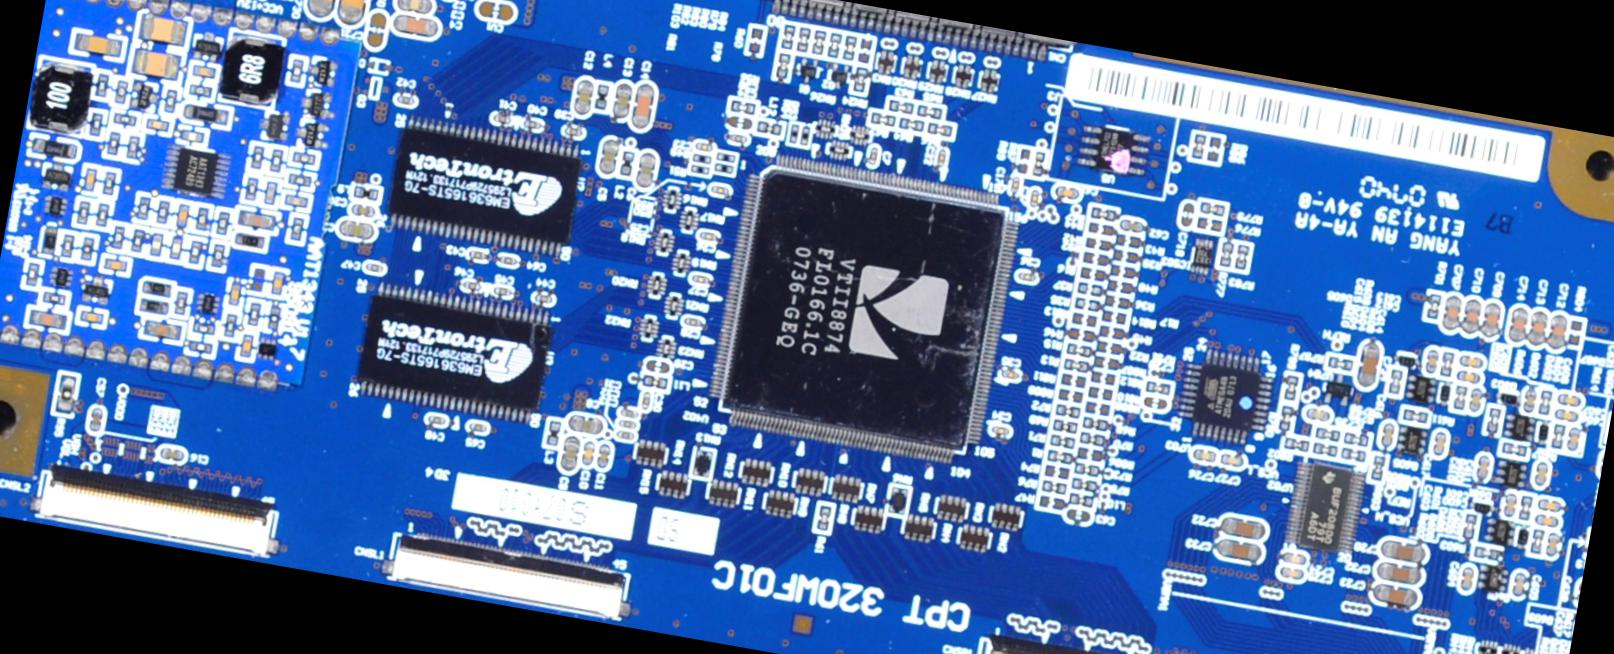Capacitor Jumper: (67, 27, 131, 64), (136, 11, 192, 48), (1368, 577, 1423, 613), (1212, 535, 1265, 569), (133, 48, 184, 82), (1354, 339, 1387, 391), (1375, 532, 1428, 565), (1372, 555, 1425, 585), (1216, 513, 1268, 542), (392, 9, 442, 38), (24, 308, 75, 335), (631, 145, 661, 191), (138, 317, 188, 344), (632, 81, 659, 131), (1527, 306, 1554, 348), (335, 216, 377, 244), (1481, 292, 1507, 337), (1461, 292, 1485, 338), (556, 434, 584, 474), (1440, 292, 1466, 334), (567, 410, 606, 437), (153, 443, 192, 470), (97, 252, 134, 280), (336, 0, 373, 27), (570, 78, 596, 116), (1549, 310, 1573, 351), (611, 80, 634, 123), (1187, 440, 1220, 469), (1471, 449, 1498, 484), (598, 136, 621, 177), (239, 207, 275, 233), (1508, 305, 1532, 344), (72, 304, 109, 329), (593, 439, 618, 475), (1374, 419, 1400, 453), (1302, 402, 1337, 426), (1553, 386, 1589, 410), (1535, 492, 1569, 516), (305, 0, 342, 22), (1430, 426, 1452, 461), (460, 416, 493, 440), (85, 403, 108, 437), (1553, 403, 1584, 427), (1457, 561, 1478, 596), (1497, 490, 1521, 520), (236, 329, 257, 363), (1052, 183, 1084, 206), (346, 200, 379, 221), (1219, 447, 1245, 473), (1563, 425, 1584, 456), (1195, 215, 1227, 236), (1458, 350, 1486, 373), (1204, 134, 1226, 164), (190, 61, 220, 82), (1012, 145, 1032, 176), (1533, 508, 1564, 528), (489, 108, 518, 130), (398, 0, 438, 15), (1521, 382, 1542, 412), (142, 116, 173, 136), (1534, 459, 1553, 490), (1509, 570, 1531, 597), (1178, 199, 1197, 229), (1119, 216, 1149, 236), (269, 268, 288, 298), (224, 279, 244, 308), (1543, 529, 1563, 558), (422, 412, 452, 431), (559, 121, 587, 140), (531, 287, 556, 309), (642, 356, 671, 375), (636, 386, 655, 415), (519, 114, 547, 133), (1424, 348, 1442, 376), (81, 165, 100, 193), (609, 425, 637, 444), (934, 144, 952, 171), (582, 438, 597, 469), (175, 201, 191, 230), (706, 181, 734, 198), (1470, 384, 1486, 412), (689, 271, 714, 287), (615, 416, 642, 431), (460, 278, 486, 294), (1459, 366, 1482, 382), (679, 314, 704, 330), (699, 229, 722, 245), (1570, 575, 1581, 608), (692, 139, 715, 154), (496, 253, 520, 269), (617, 406, 640, 421), (466, 248, 489, 264), (490, 283, 513, 299), (1007, 174, 1022, 196), (1027, 185, 1042, 208)
Connector: (33, 458, 295, 565), (377, 531, 639, 624), (959, 623, 1231, 653)
Resistor Jumper: (51, 371, 82, 418), (1468, 539, 1506, 567), (1381, 362, 1408, 402), (283, 53, 310, 89), (1366, 451, 1392, 488), (1395, 404, 1435, 427), (288, 145, 323, 172), (284, 212, 310, 248), (284, 185, 314, 216), (182, 236, 209, 270), (217, 309, 243, 344), (132, 190, 155, 227), (38, 286, 74, 310), (1481, 403, 1506, 437), (1458, 509, 1482, 543), (726, 95, 761, 118), (72, 194, 96, 229), (1188, 129, 1212, 163), (1324, 351, 1358, 375), (188, 316, 222, 340), (1233, 240, 1256, 275), (105, 219, 130, 251), (772, 51, 796, 84), (1108, 274, 1141, 298), (244, 141, 268, 174), (1497, 438, 1530, 461), (1045, 431, 1078, 454), (264, 302, 286, 336), (1080, 232, 1115, 253), (1041, 445, 1074, 468), (1535, 387, 1558, 418), (868, 107, 900, 130), (1279, 434, 1311, 456), (128, 226, 150, 257), (1216, 238, 1237, 271), (184, 81, 217, 103), (1082, 247, 1115, 269), (191, 203, 212, 237), (173, 286, 194, 320), (1197, 198, 1229, 219), (1280, 372, 1302, 404), (152, 197, 174, 229), (807, 28, 829, 60), (1142, 378, 1177, 398), (178, 125, 207, 148), (1343, 427, 1372, 451), (893, 113, 926, 134), (104, 127, 125, 160), (1048, 415, 1081, 436), (777, 22, 798, 55), (185, 336, 215, 358), (75, 232, 97, 263), (1102, 304, 1130, 328), (286, 167, 314, 191), (753, 118, 785, 139), (1079, 265, 1111, 285), (1277, 403, 1298, 435), (1051, 401, 1083, 421), (1037, 493, 1068, 514), (211, 239, 231, 272), (24, 255, 43, 288), (1547, 423, 1568, 454), (913, 103, 947, 122), (1569, 318, 1587, 352), (148, 227, 167, 261), (1069, 472, 1098, 493), (108, 109, 138, 130), (1081, 413, 1111, 434), (169, 231, 186, 266), (1085, 219, 1118, 238), (1115, 232, 1146, 251), (1076, 280, 1107, 300), (1096, 323, 1127, 343), (243, 173, 262, 204), (1062, 355, 1093, 375), (1054, 386, 1085, 406), (1042, 476, 1069, 497), (926, 119, 955, 140), (1103, 291, 1135, 310), (94, 198, 112, 230), (1312, 424, 1342, 444), (1517, 494, 1537, 524), (885, 97, 916, 115), (1113, 245, 1141, 266), (264, 177, 282, 208), (639, 372, 670, 390), (1074, 459, 1102, 479), (1088, 205, 1118, 223), (87, 110, 106, 140), (269, 143, 287, 173), (1451, 385, 1470, 415), (1064, 341, 1094, 359), (828, 31, 846, 61), (1094, 352, 1121, 373), (211, 211, 232, 238), (1530, 526, 1546, 559), (1071, 310, 1099, 329), (101, 170, 119, 199), (1079, 428, 1108, 447), (1112, 260, 1137, 280), (125, 131, 141, 163), (725, 129, 751, 148), (1030, 148, 1048, 178), (113, 77, 131, 107), (1143, 397, 1172, 414), (1311, 443, 1341, 460), (58, 235, 76, 262), (1068, 328, 1098, 344), (1085, 398, 1109, 418), (248, 299, 266, 326), (1069, 488, 1093, 508), (1075, 296, 1102, 312), (1062, 371, 1087, 389), (842, 34, 858, 62), (95, 71, 109, 102), (1091, 369, 1118, 385), (1341, 447, 1368, 463), (716, 146, 740, 165), (1045, 467, 1073, 482), (796, 25, 811, 53), (1100, 341, 1124, 358), (866, 142, 881, 169), (163, 92, 179, 115), (798, 125, 813, 149), (1090, 384, 1113, 401), (689, 162, 711, 177), (787, 123, 802, 145), (693, 152, 714, 167), (714, 161, 736, 175), (392, 90, 393, 91)
